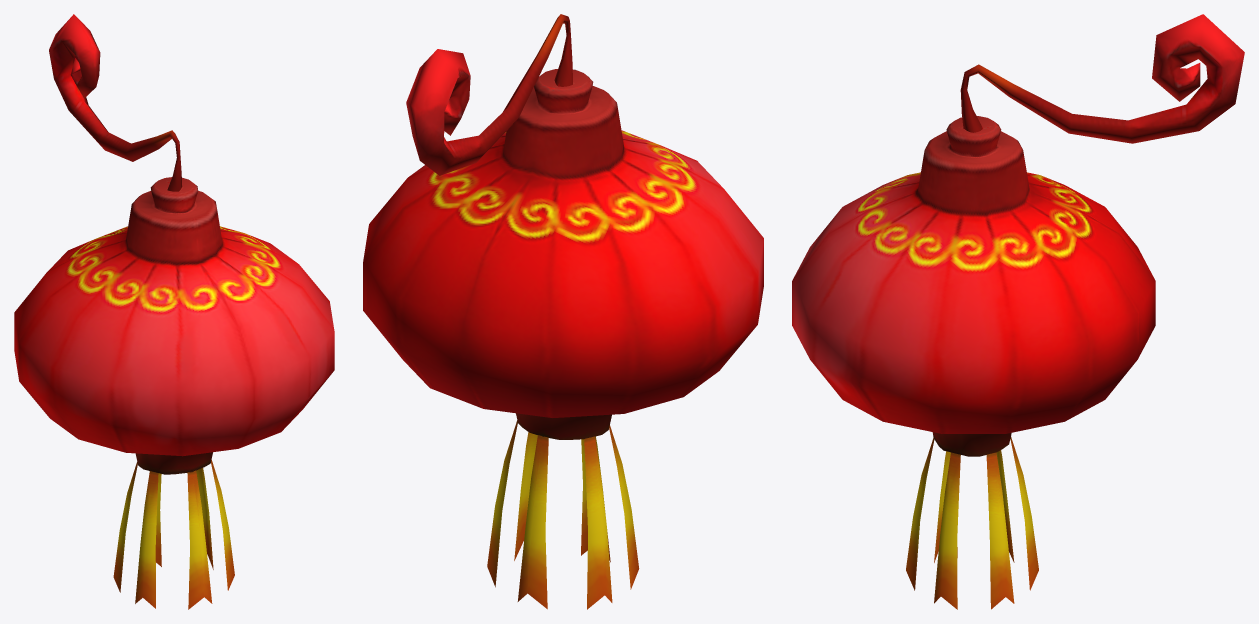
File: denglong.FBX
The picture shows the model from 3 angles, left to right: view 1: azimuth 30°, elevation 25°; view 2: azimuth 150°, elevation 25°; view 3: azimuth 270°, elevation 25°; orthographic projection. The views are drawn at different scales.
Visible parts, largest first — view 1: Object015; view 2: Object015; view 3: Object015.
Part boxes in pixels (box(x1,y1,x2,y2)): Object015: box(14, 14, 334, 609); Object015: box(363, 14, 763, 609); Object015: box(792, 14, 1244, 609).
Size of the model in its own units: 79.06 by 137 by 98.84.
